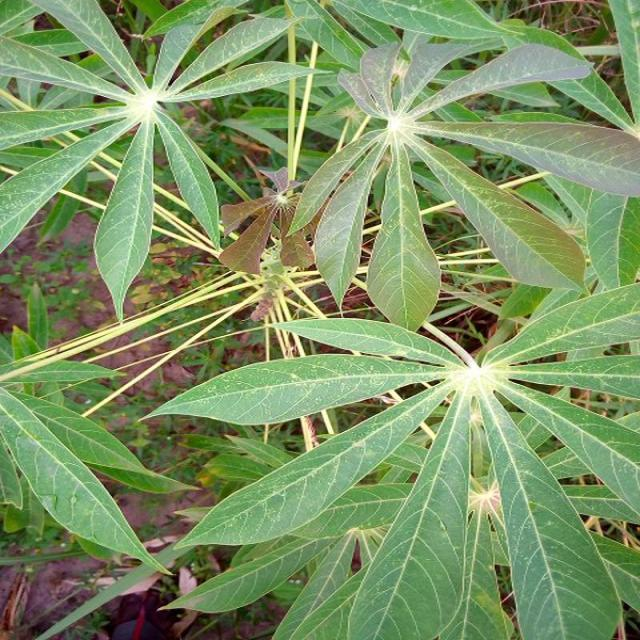cassava leaf: (1, 1, 638, 638), (287, 32, 638, 331), (0, 0, 323, 323)
